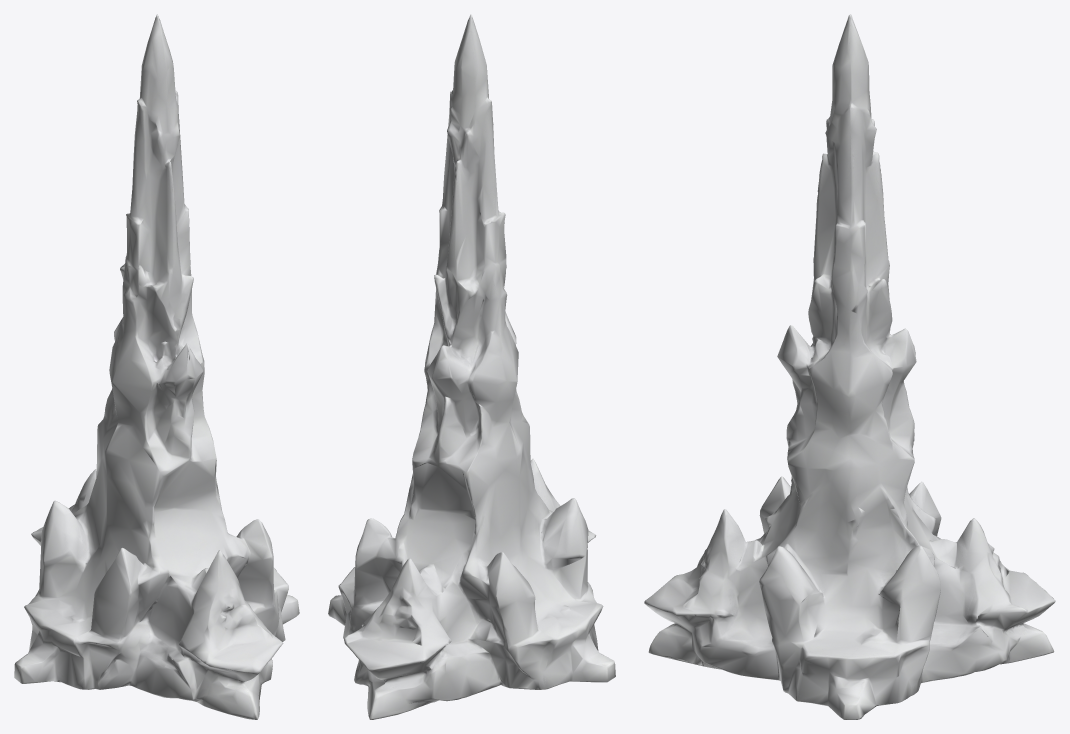
The model's file is Rook.fbx.
3 renders of one model, left to right at view 1: azimuth 30°, elevation 25°; view 2: azimuth 150°, elevation 25°; view 3: azimuth 270°, elevation 25°, orthographic.
Parts seen in each view (by area): view 1: Mesh_0; view 2: Mesh_0; view 3: Mesh_0.
Boxes of the visible parts, bbox=[...] form: Mesh_0: bbox=[14, 14, 299, 719]; Mesh_0: bbox=[328, 14, 615, 719]; Mesh_0: bbox=[644, 14, 1055, 719].
Bounding box in the file's own units: 92.45 × 200 × 117.
1 material, 1 textured.
